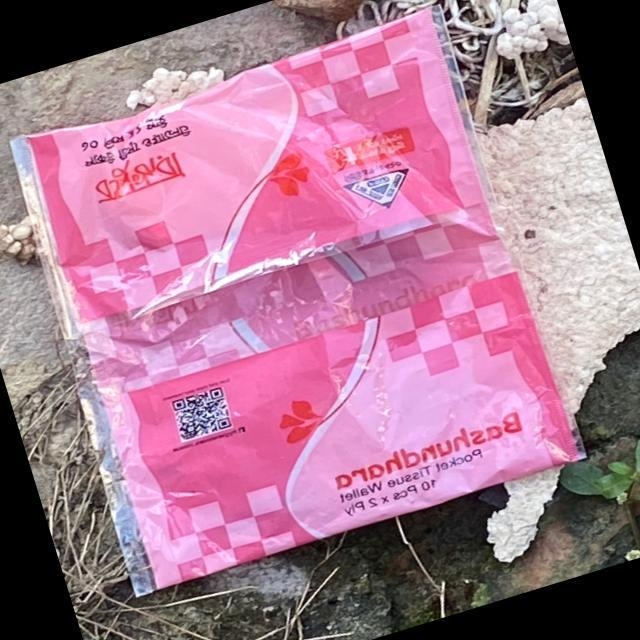packet: (0, 0, 588, 596)
